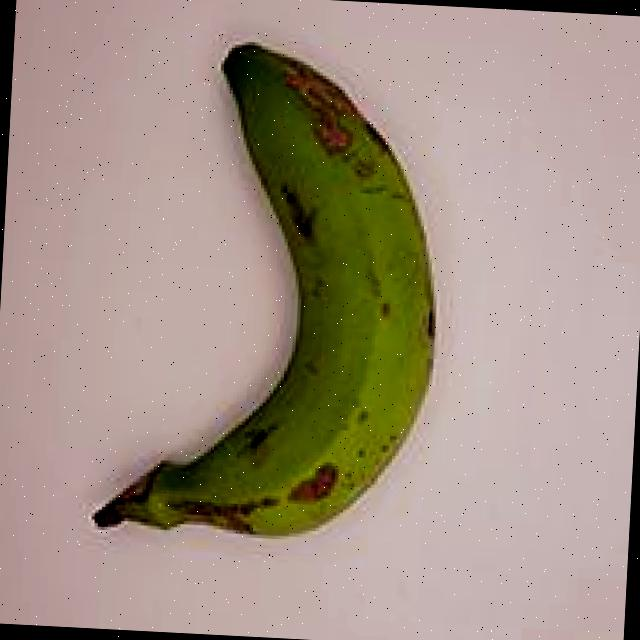Raw: (68, 10, 483, 568)
